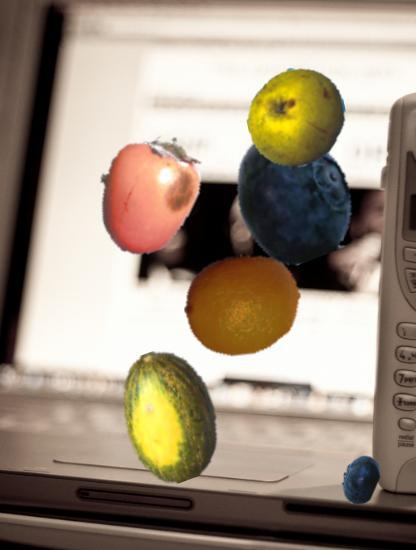Beetroot: (299, 95, 353, 149)
Blueberry: (226, 127, 362, 263), (335, 454, 386, 505)
Kaki: (83, 130, 210, 257)
Lemon: (184, 246, 302, 364)
Melon: (104, 349, 238, 483)
Pear: (247, 68, 347, 168)
